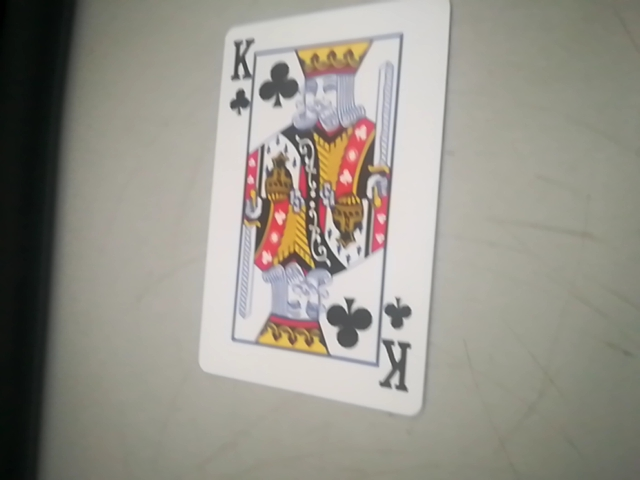mh k: (208, 4, 457, 421)
